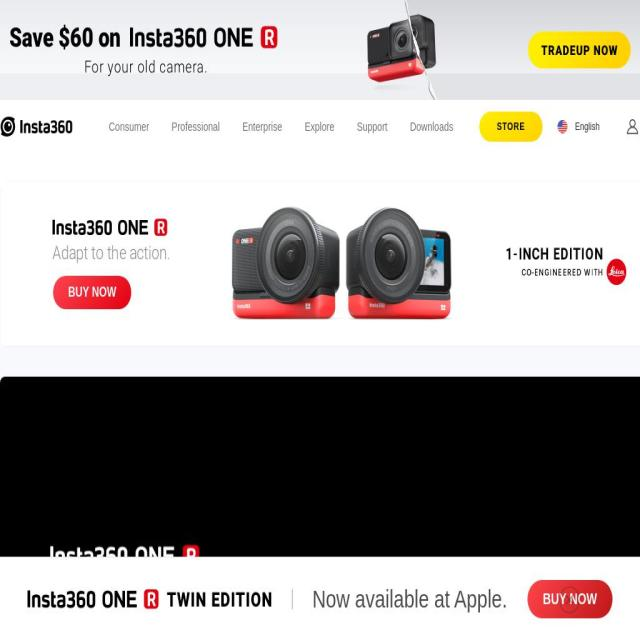button: (0, 0, 640, 100), (550, 100, 625, 153), (527, 580, 613, 618), (53, 276, 132, 309), (50, 584, 199, 598), (478, 112, 542, 142), (0, 116, 75, 137), (625, 116, 640, 136)
image: (0, 404, 640, 640), (0, 0, 640, 100), (50, 544, 199, 596), (27, 588, 272, 610), (0, 116, 75, 137), (559, 584, 580, 614), (627, 119, 638, 134), (558, 120, 568, 133)
text: (0, 376, 640, 640), (50, 605, 311, 629), (312, 584, 507, 614), (171, 120, 220, 133), (409, 120, 453, 133), (109, 120, 149, 133), (242, 120, 282, 133), (357, 120, 388, 133), (304, 120, 334, 133), (575, 121, 600, 132)
